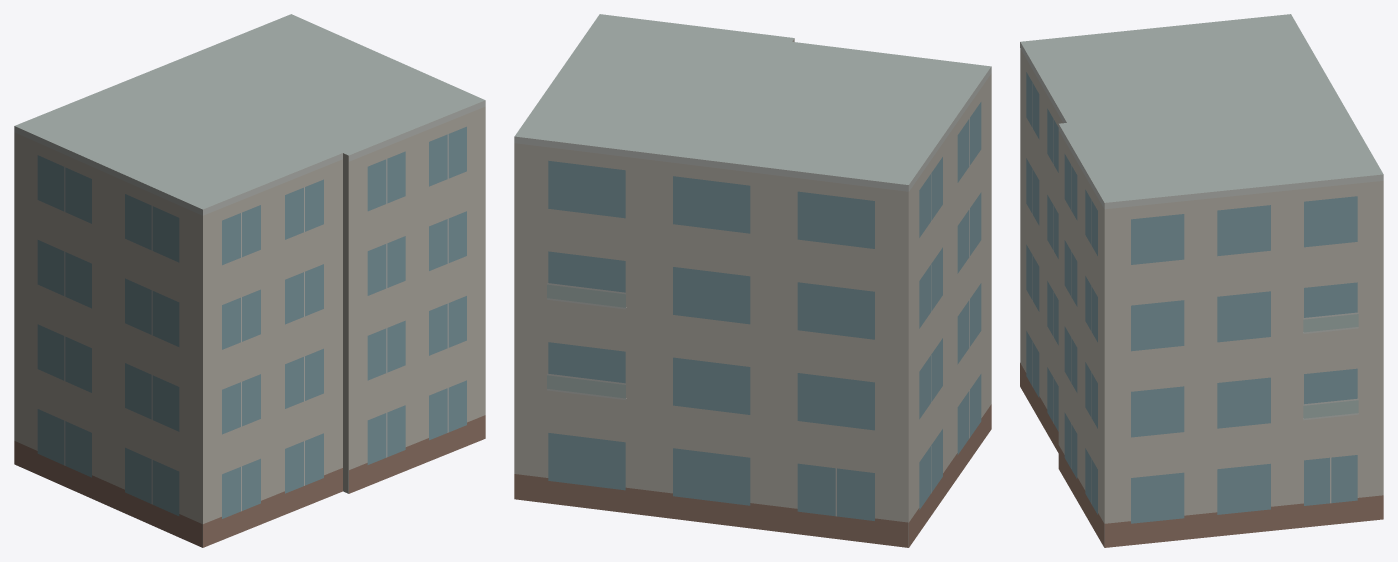
Rendered from survey-upis-32815392.glb.
3 renders of one model, left to right at view 1: azimuth 30°, elevation 25°; view 2: azimuth 150°, elevation 25°; view 3: azimuth 270°, elevation 25°, orthographic. The views are drawn at different scales.
Parts seen in each view (by area): view 1: survey-upis-32815392.tmp; view 2: survey-upis-32815392.tmp; view 3: survey-upis-32815392.tmp.
Boxes of the visible parts, x1=… form: survey-upis-32815392.tmp: x1=14, y1=14, x2=485, y2=547; survey-upis-32815392.tmp: x1=514, y1=14, x2=991, y2=547; survey-upis-32815392.tmp: x1=1020, y1=14, x2=1383, y2=547.
Bounding box in the file's own units: 15.57 × 13.25 × 12.66.
